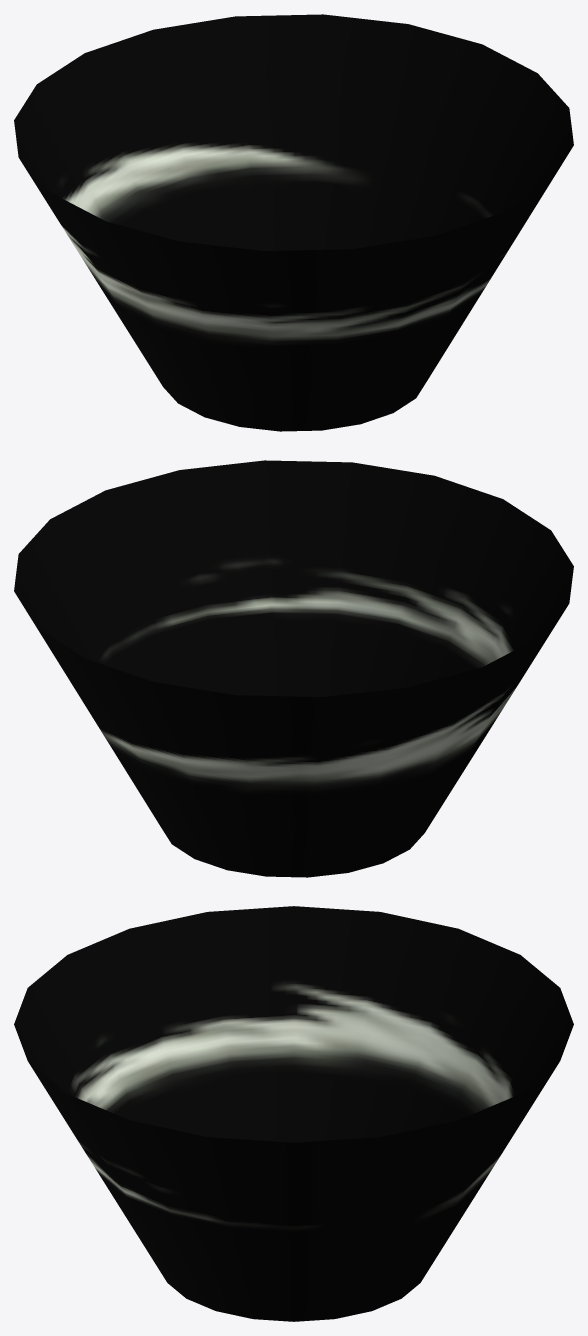
The model's file is 1039_xuan.fbx.
The picture shows the model from 3 angles, top to bottom: view 1: azimuth 30°, elevation 25°; view 2: azimuth 150°, elevation 25°; view 3: azimuth 270°, elevation 25°; orthographic projection.
Parts seen in each view (by area): view 1: xuan_1042; view 2: xuan_1042; view 3: xuan_1042.
Part boxes in pixels (bbox=[...]): xuan_1042: bbox=[14, 14, 573, 431]; xuan_1042: bbox=[14, 460, 573, 877]; xuan_1042: bbox=[14, 906, 573, 1321].
Size of the model in its own units: 421 by 200 by 421.
Materials: 1 (1 with a texture image).
